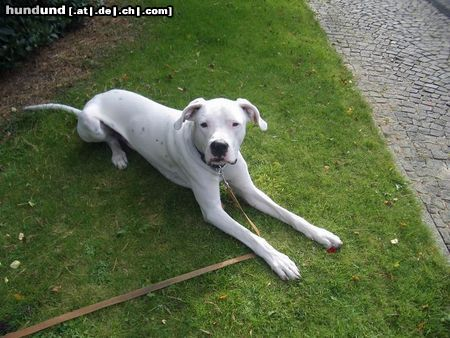dogo_argentino: (22, 88, 343, 281)
